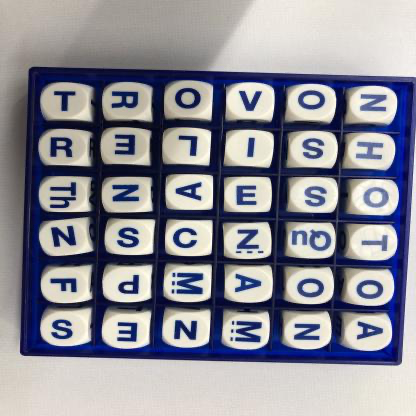a: (226, 265, 274, 302), (168, 176, 213, 209), (347, 317, 391, 350)
c: (167, 221, 215, 257)
e: (104, 130, 153, 164), (226, 179, 272, 214), (102, 318, 147, 351)
f: (44, 268, 92, 301)
h: (348, 135, 397, 169)
i: (227, 133, 273, 165)
l: (166, 131, 211, 164)
m: (165, 266, 213, 305), (222, 315, 271, 351)
n: (164, 311, 211, 348), (284, 315, 332, 349), (105, 179, 154, 212), (42, 221, 87, 255), (353, 88, 397, 122)
o: (163, 81, 214, 117), (286, 268, 336, 304), (349, 269, 396, 306), (290, 88, 337, 122), (351, 181, 397, 215)
p: (102, 266, 153, 304)
qu: (289, 224, 335, 259)
r: (42, 131, 94, 166), (105, 86, 153, 121)
s: (288, 133, 338, 169), (108, 220, 155, 256), (291, 179, 338, 214), (45, 312, 89, 345)
t: (349, 226, 397, 260), (43, 83, 90, 117)
th: (42, 178, 90, 212)
v: (228, 84, 275, 120)
z: (224, 225, 271, 259)
